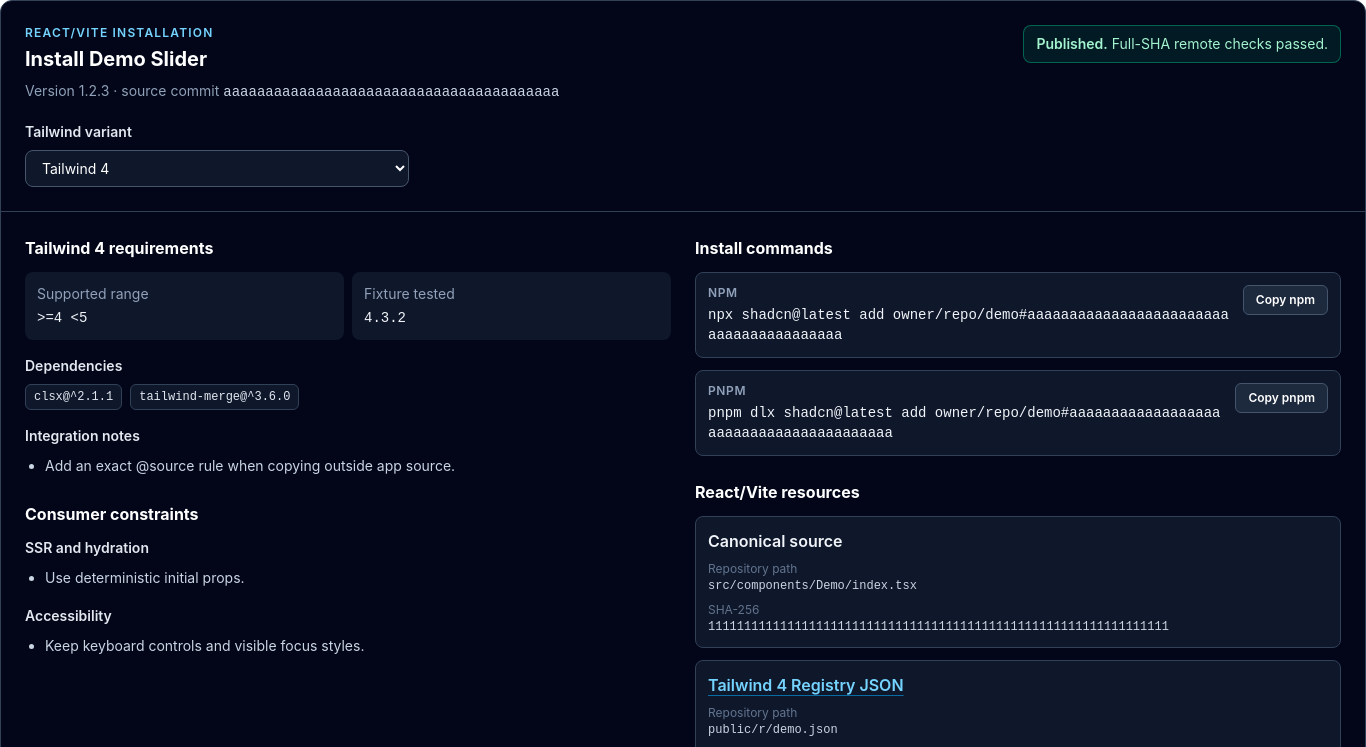
Test case: ComponentInstallGuide › copies only exact published commands and reports success and failure independently
Click the button "Copy npm" at (1285, 300), box [1243,285,1328,315]
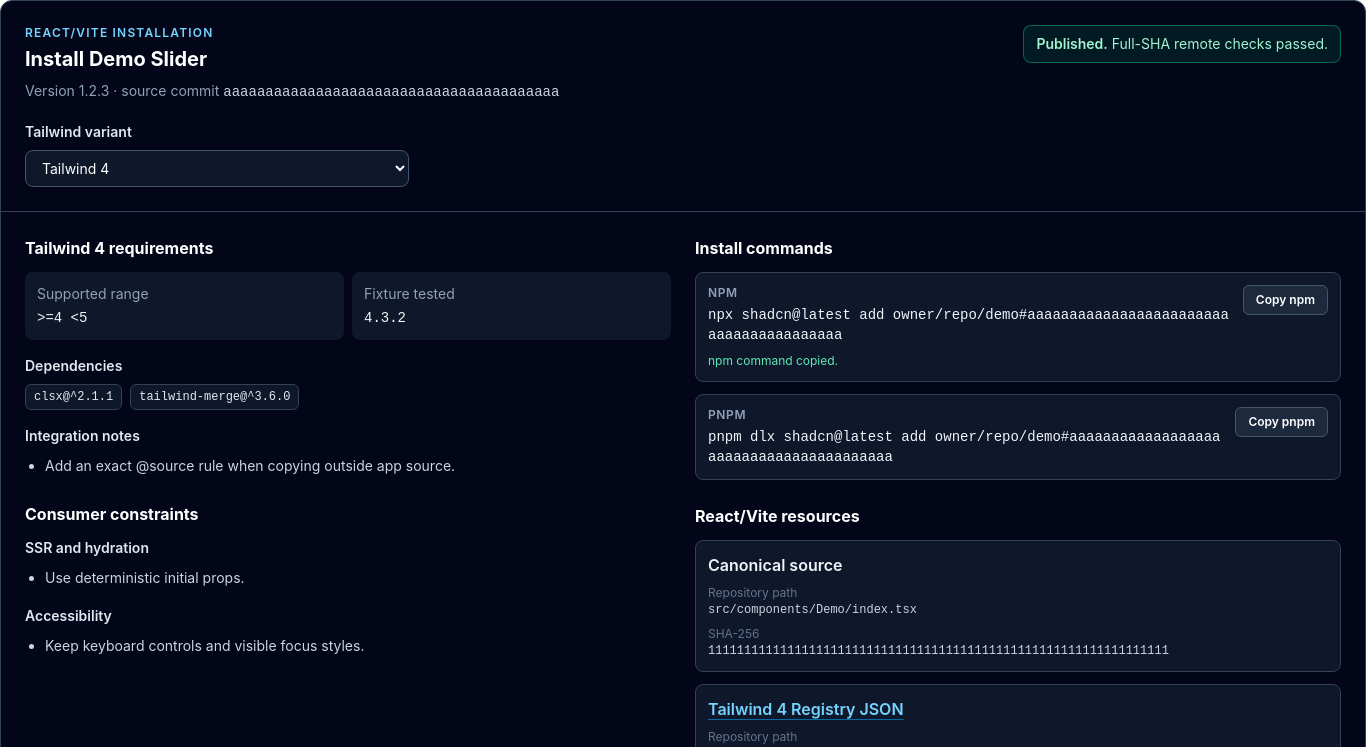
Now the text "npm command copied." is shown, box [708,353,838,368]
Click the button "Copy pnpm" at (1282, 422), box [1235,407,1328,437]
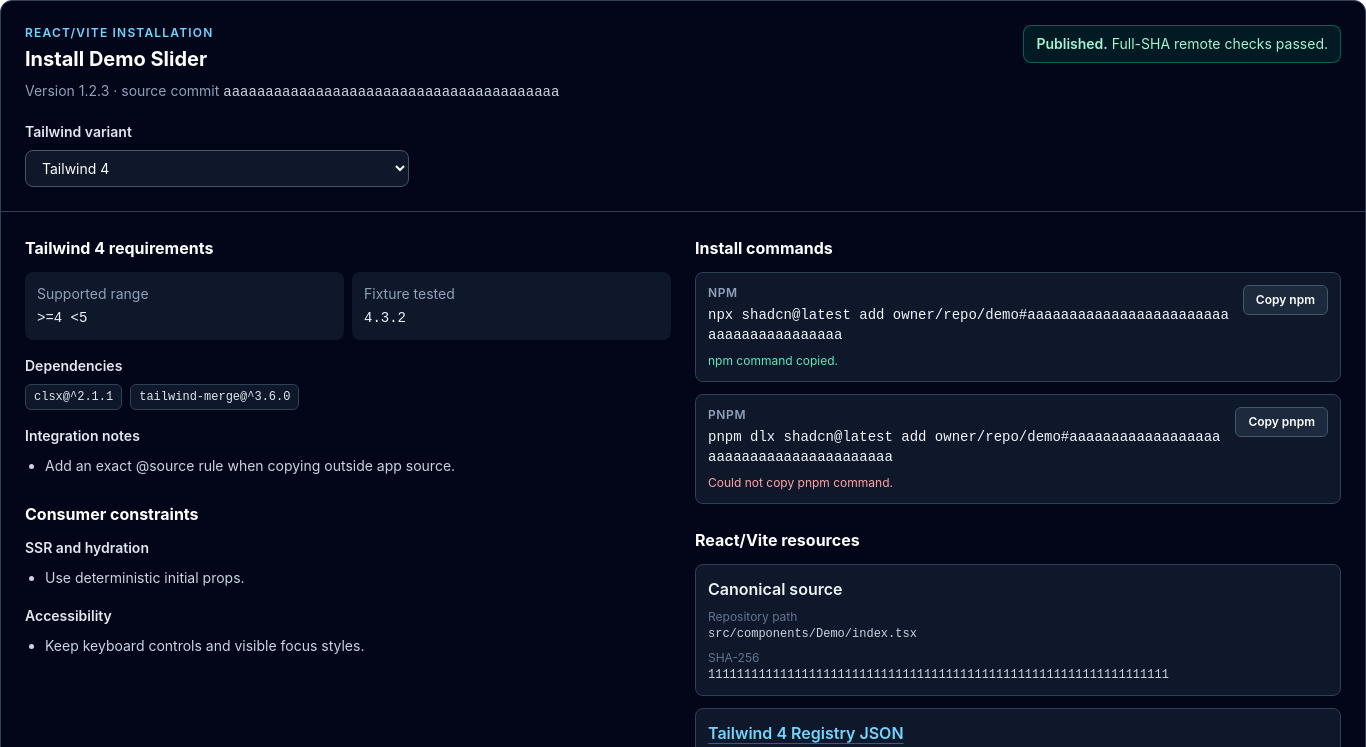
Now the text "npm command copied." is shown, box [708,353,838,368]
Now the text "Could not copy pnpm command." is shown, box [708,475,893,490]
